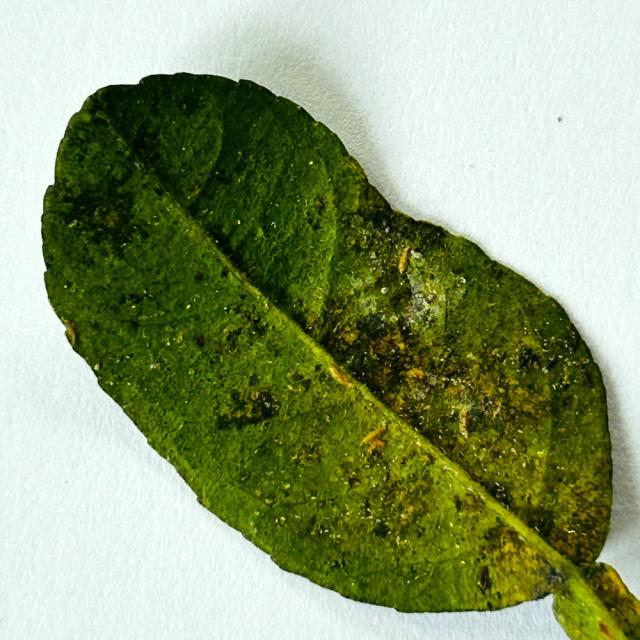Bacterial_Blight: (474, 527, 562, 610), (56, 173, 142, 257), (546, 452, 609, 537), (377, 471, 447, 542), (359, 327, 408, 376), (129, 122, 174, 175), (222, 389, 284, 426), (117, 287, 165, 319), (223, 321, 264, 355), (320, 294, 352, 334), (598, 566, 631, 601), (460, 397, 490, 433), (506, 381, 537, 409), (218, 261, 248, 289), (442, 279, 467, 312), (359, 310, 393, 334), (126, 315, 179, 329), (293, 442, 322, 466), (302, 301, 326, 330), (361, 424, 388, 449), (242, 317, 268, 342), (516, 347, 541, 372), (484, 480, 509, 504), (441, 364, 471, 384), (559, 328, 580, 356), (328, 363, 352, 386), (60, 317, 77, 346), (310, 194, 328, 219), (211, 166, 233, 186), (371, 520, 393, 539), (579, 363, 595, 389), (125, 290, 150, 306), (478, 377, 497, 398), (477, 565, 491, 593), (345, 156, 364, 175), (371, 339, 391, 357), (598, 620, 616, 639), (460, 409, 472, 436), (288, 370, 307, 386), (91, 111, 110, 126), (345, 474, 362, 489), (348, 275, 365, 290), (423, 281, 437, 299), (309, 215, 323, 232), (413, 298, 428, 313), (247, 373, 261, 388), (330, 556, 346, 569), (446, 384, 462, 397), (545, 356, 558, 371), (414, 388, 429, 401), (194, 333, 206, 348), (491, 403, 502, 419), (193, 270, 206, 283), (253, 227, 265, 240), (220, 266, 231, 279), (426, 374, 438, 385), (314, 363, 323, 373), (63, 281, 73, 290), (423, 454, 433, 463), (134, 161, 143, 170), (141, 330, 149, 340), (491, 348, 500, 356), (68, 220, 77, 228), (438, 293, 446, 302), (176, 334, 183, 344), (370, 251, 377, 260), (254, 489, 262, 496), (188, 369, 195, 376), (264, 401, 271, 408), (237, 151, 242, 155)
Lemon: (40, 73, 639, 639)
